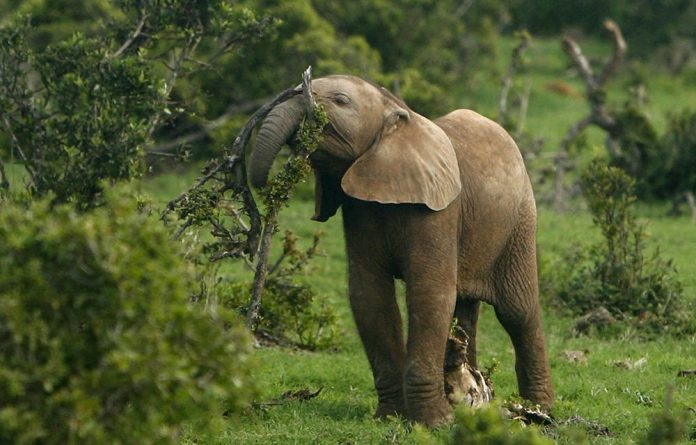elephant: (246, 72, 549, 420)
